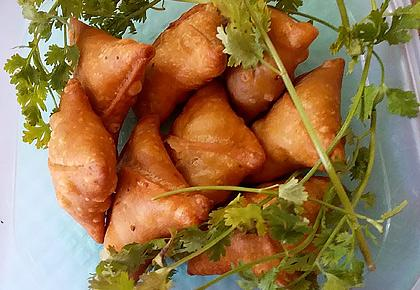samosa: (104, 114, 210, 251), (48, 79, 117, 242), (133, 4, 226, 122), (166, 80, 266, 186), (70, 18, 155, 141), (245, 93, 319, 183), (295, 58, 345, 149)
